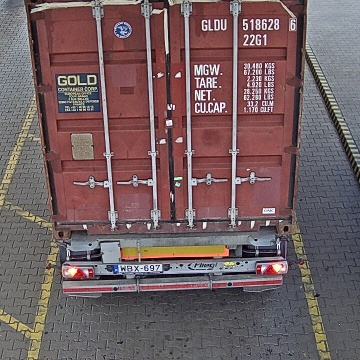serial_id: (201, 18, 297, 30)
